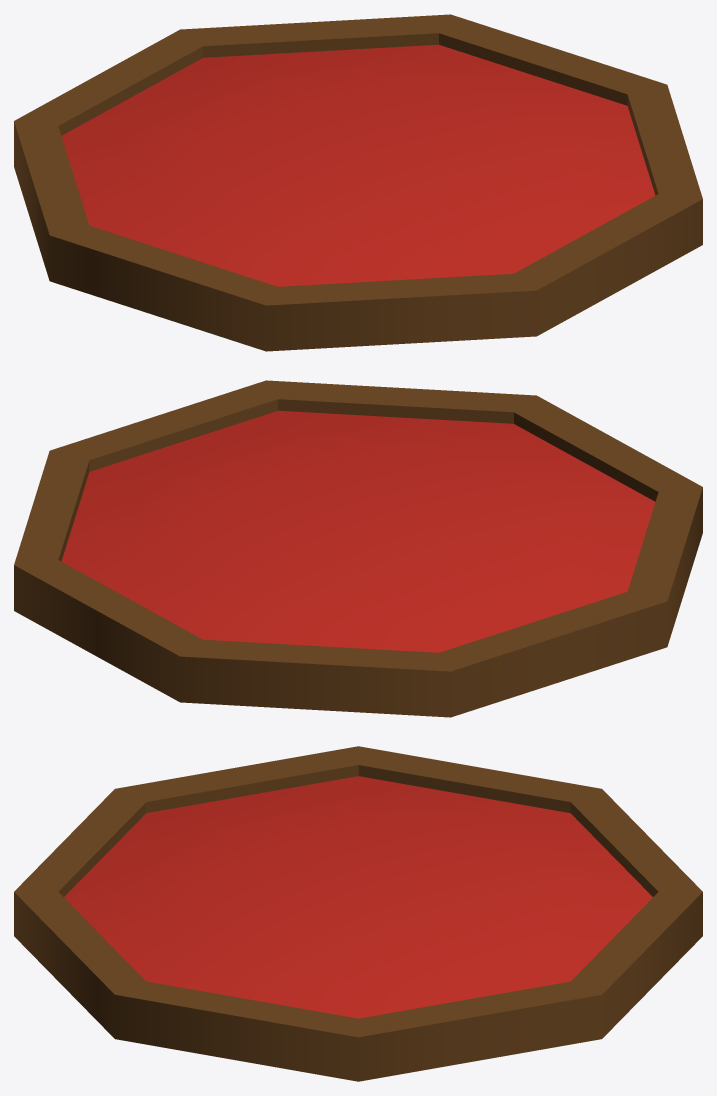
File: medalion1.fbx
3 views of the same model, one above another, from view 1: azimuth 30°, elevation 25°; view 2: azimuth 150°, elevation 25°; view 3: azimuth 270°, elevation 25° (orthographic). The views are drawn at different scales.
Visible parts, largest first — view 1: medalion; view 2: medalion; view 3: medalion.
Part boxes in pixels (box(x1,y1,x2,y2)): medalion: box(14, 14, 702, 351); medalion: box(14, 380, 702, 717); medalion: box(14, 746, 702, 1081).
Bounding box in the file's own units: 36.75 × 3.53 × 36.75.
